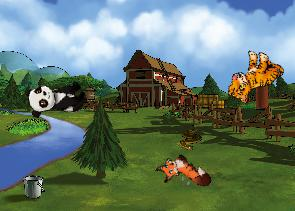fox: (152, 145, 214, 204)
panda: (24, 77, 89, 119)
tiger: (223, 44, 287, 112)
